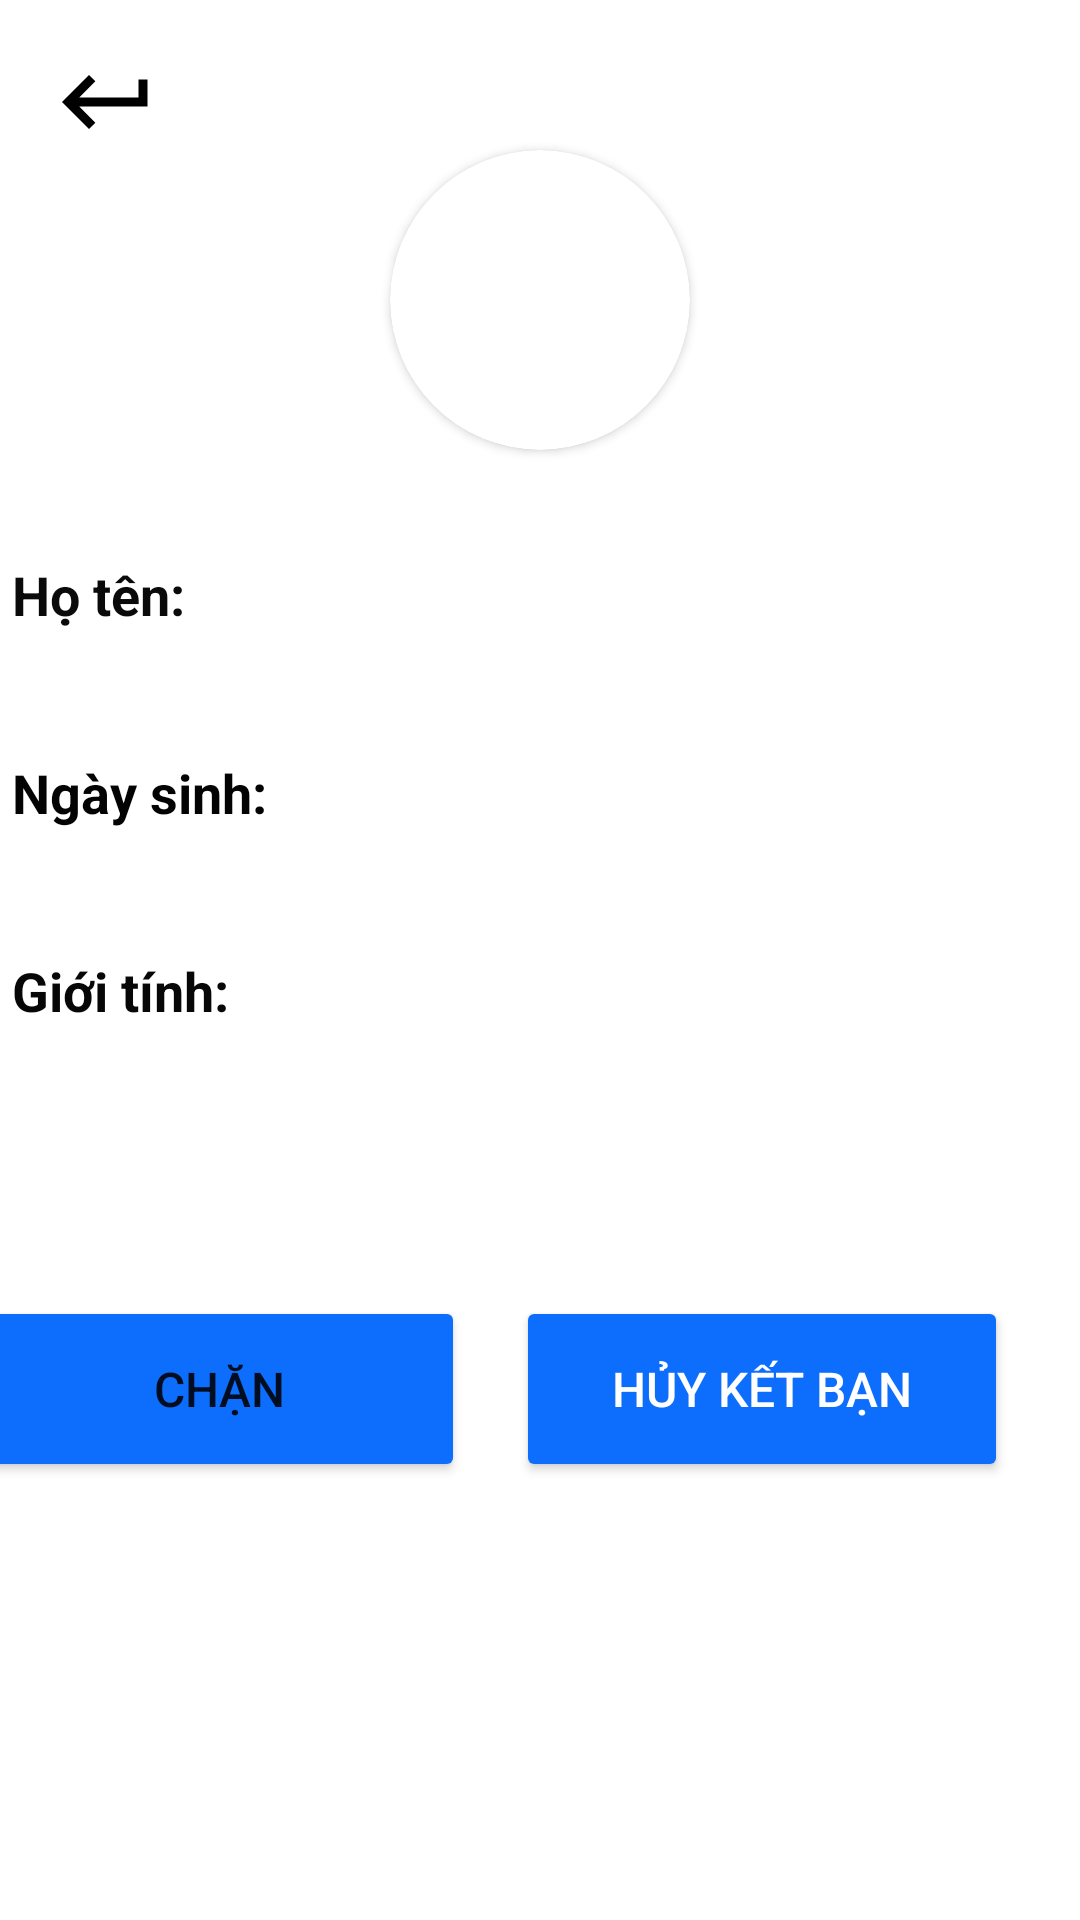

Screen size 1080w x 1920h. Icon name, then its center in pixels as (x,y):
keyboard return: (105,102)
